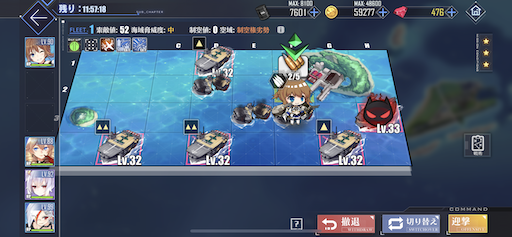boss: (357, 92, 400, 132)
lv1: (316, 120, 361, 163), (193, 37, 233, 76)
lv2: (94, 120, 144, 166), (184, 118, 228, 164)
